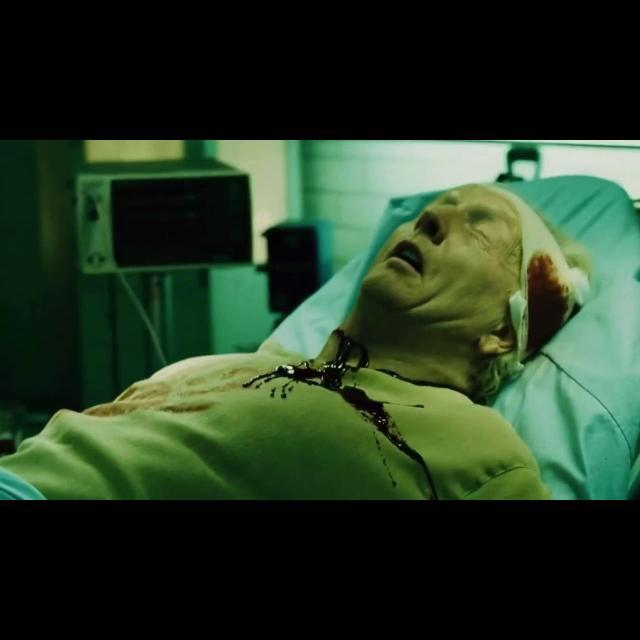blood: (243, 330, 439, 500), (376, 369, 460, 392), (252, 373, 312, 399)
